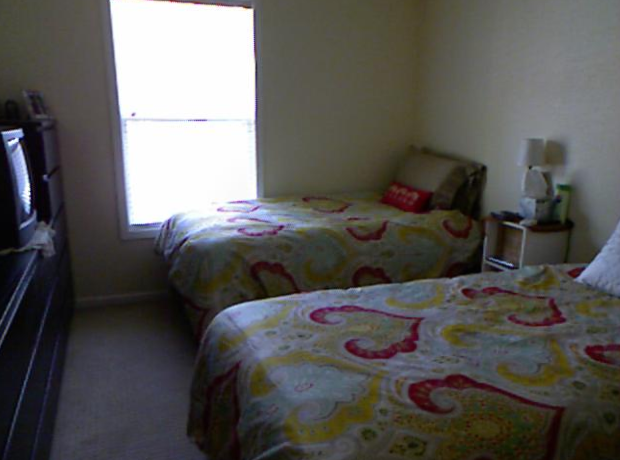cabinet: (483, 214, 566, 264)
window: (125, 4, 255, 200)
